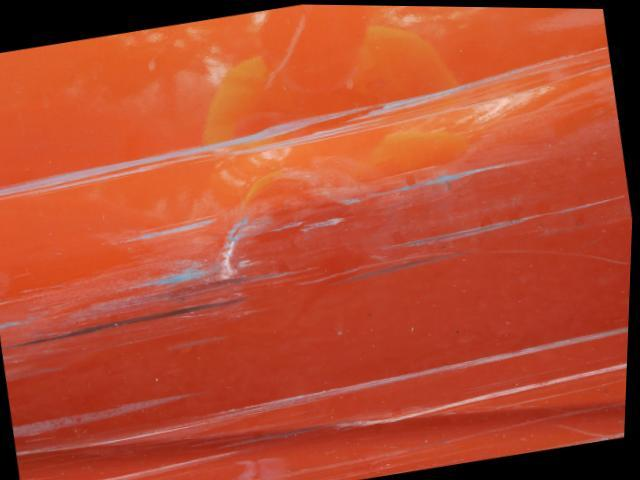scratch: (0, 36, 634, 480)
